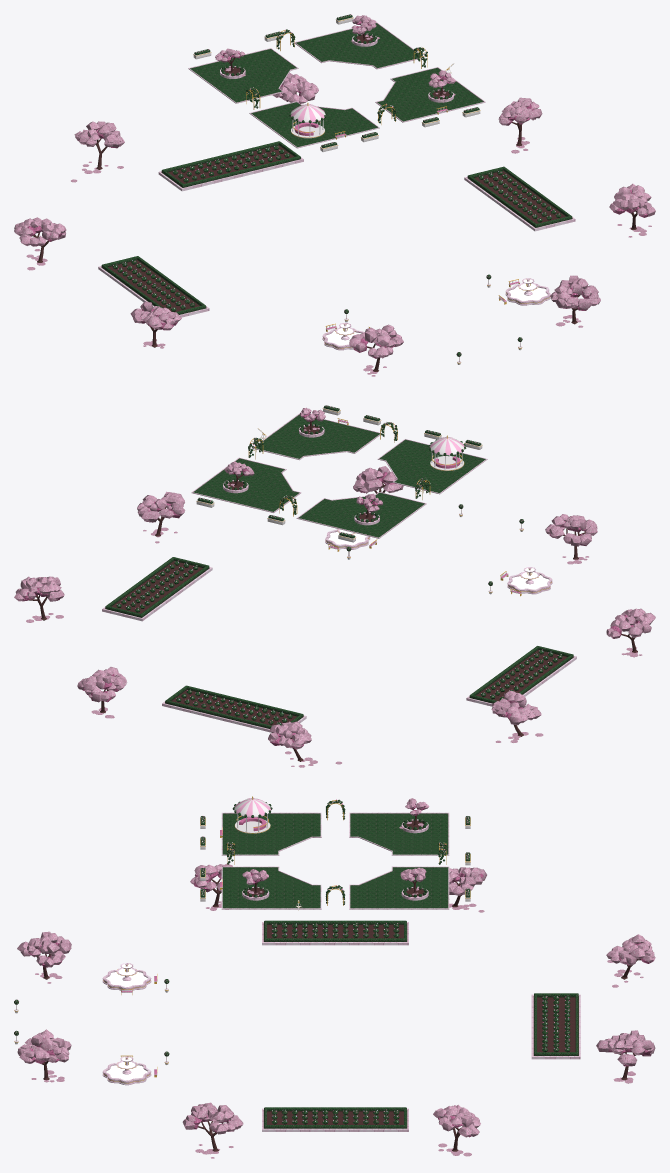
The model's file is citadel_gardens.glb.
3 views of the same model, one above another, from view 1: azimuth 30°, elevation 25°; view 2: azimuth 150°, elevation 25°; view 3: azimuth 270°, elevation 25° (orthographic). The views are drawn at different scales.
Visible parts, largest first — view 1: gardens_hedge, gardens_blossom, gardens_bark, gardens_trim, gardens_white_wood, gardens_blossom2, gardens_water, gardens_gold; view 2: gardens_hedge, gardens_blossom, gardens_bark, gardens_trim, gardens_white_wood, gardens_blossom2, gardens_gold, gardens_water; view 3: gardens_hedge, gardens_blossom, gardens_bark, gardens_trim, gardens_water, gardens_blossom2, gardens_white_wood, gardens_gold, gardens_satin_pink, gardens_satin_white.
Part boxes in pixels (<box>): gardens_hedge: <box>101,14,572,356</box>; gardens_blossom: <box>14,15,655,376</box>; gardens_bark: <box>33,24,637,371</box>; gardens_trim: <box>98,22,575,350</box>; gardens_white_wood: <box>193,17,521,364</box>; gardens_blossom2: <box>27,20,647,358</box>; gardens_water: <box>326,279,547,345</box>; gardens_gold: <box>193,17,549,363</box>; gardens_hedge: <box>105,405,573,728</box>; gardens_blossom: <box>14,407,655,767</box>; gardens_bark: <box>29,417,637,761</box>; gardens_trim: <box>102,413,576,732</box>; gardens_white_wood: <box>196,408,523,594</box>; gardens_blossom2: <box>22,412,651,749</box>; gardens_gold: <box>196,408,551,596</box>; gardens_water: <box>328,529,549,589</box>; gardens_hedge: <box>14,799,578,1128</box>; gardens_blossom: <box>17,798,655,1158</box>; gardens_bark: <box>16,809,640,1151</box>; gardens_trim: <box>102,812,580,1131</box>; gardens_water: <box>106,964,147,1080</box>; gardens_blossom2: <box>28,804,654,1137</box>; gardens_white_wood: <box>14,813,470,1075</box>; gardens_gold: <box>14,796,470,1083</box>; gardens_satin_pink: <box>14,798,569,1122</box>; gardens_satin_white: <box>201,798,569,1122</box>.
Bounding box in the file's own units: 103 × 35.8 × 105.
Materials: 15 (7 with a texture image).
